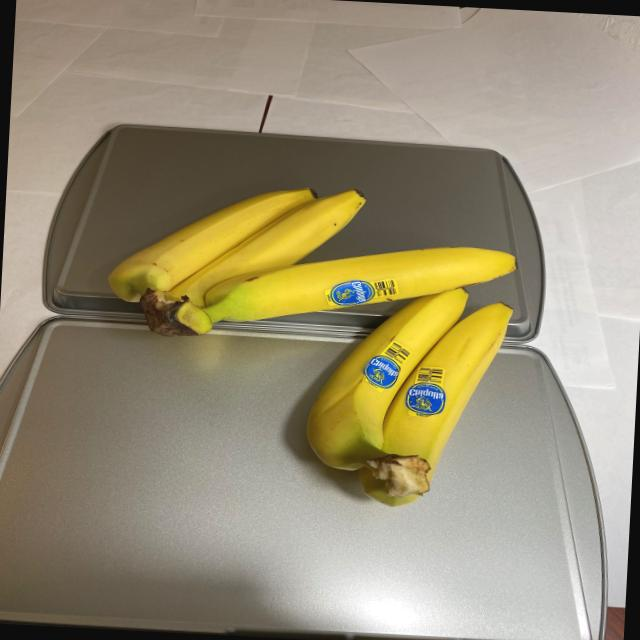banana: (94, 173, 526, 512)
